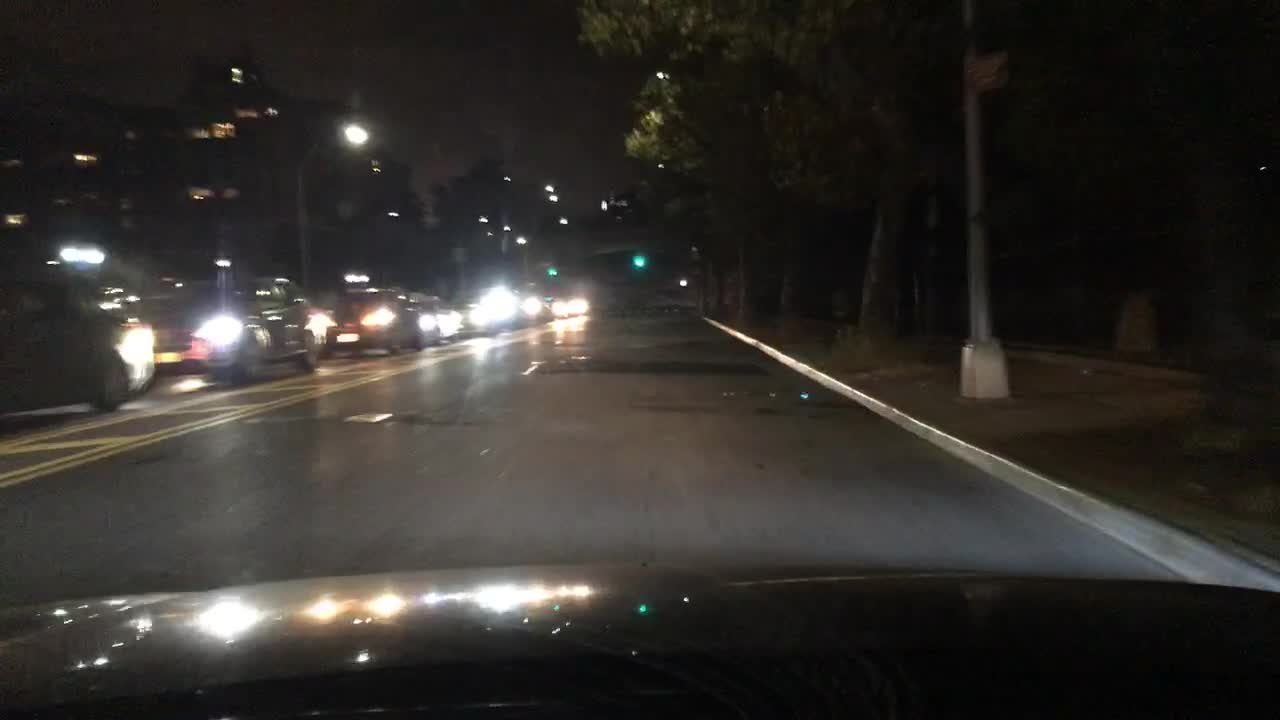car: (0, 255, 161, 416), (148, 274, 332, 382), (325, 287, 425, 358), (409, 289, 467, 339), (446, 293, 506, 337), (508, 287, 548, 322), (545, 292, 592, 318)
traffic light: (632, 248, 647, 271), (545, 258, 559, 280)
traffic sign: (966, 46, 1016, 95)
